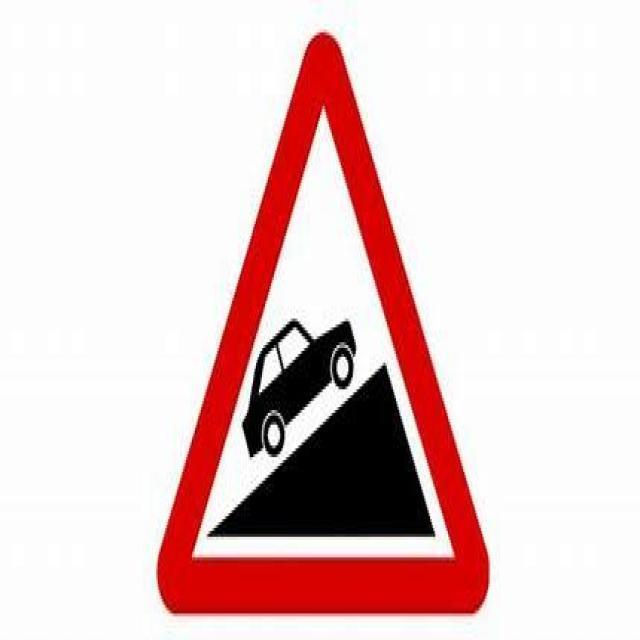steep ascent: (143, 28, 499, 619)
